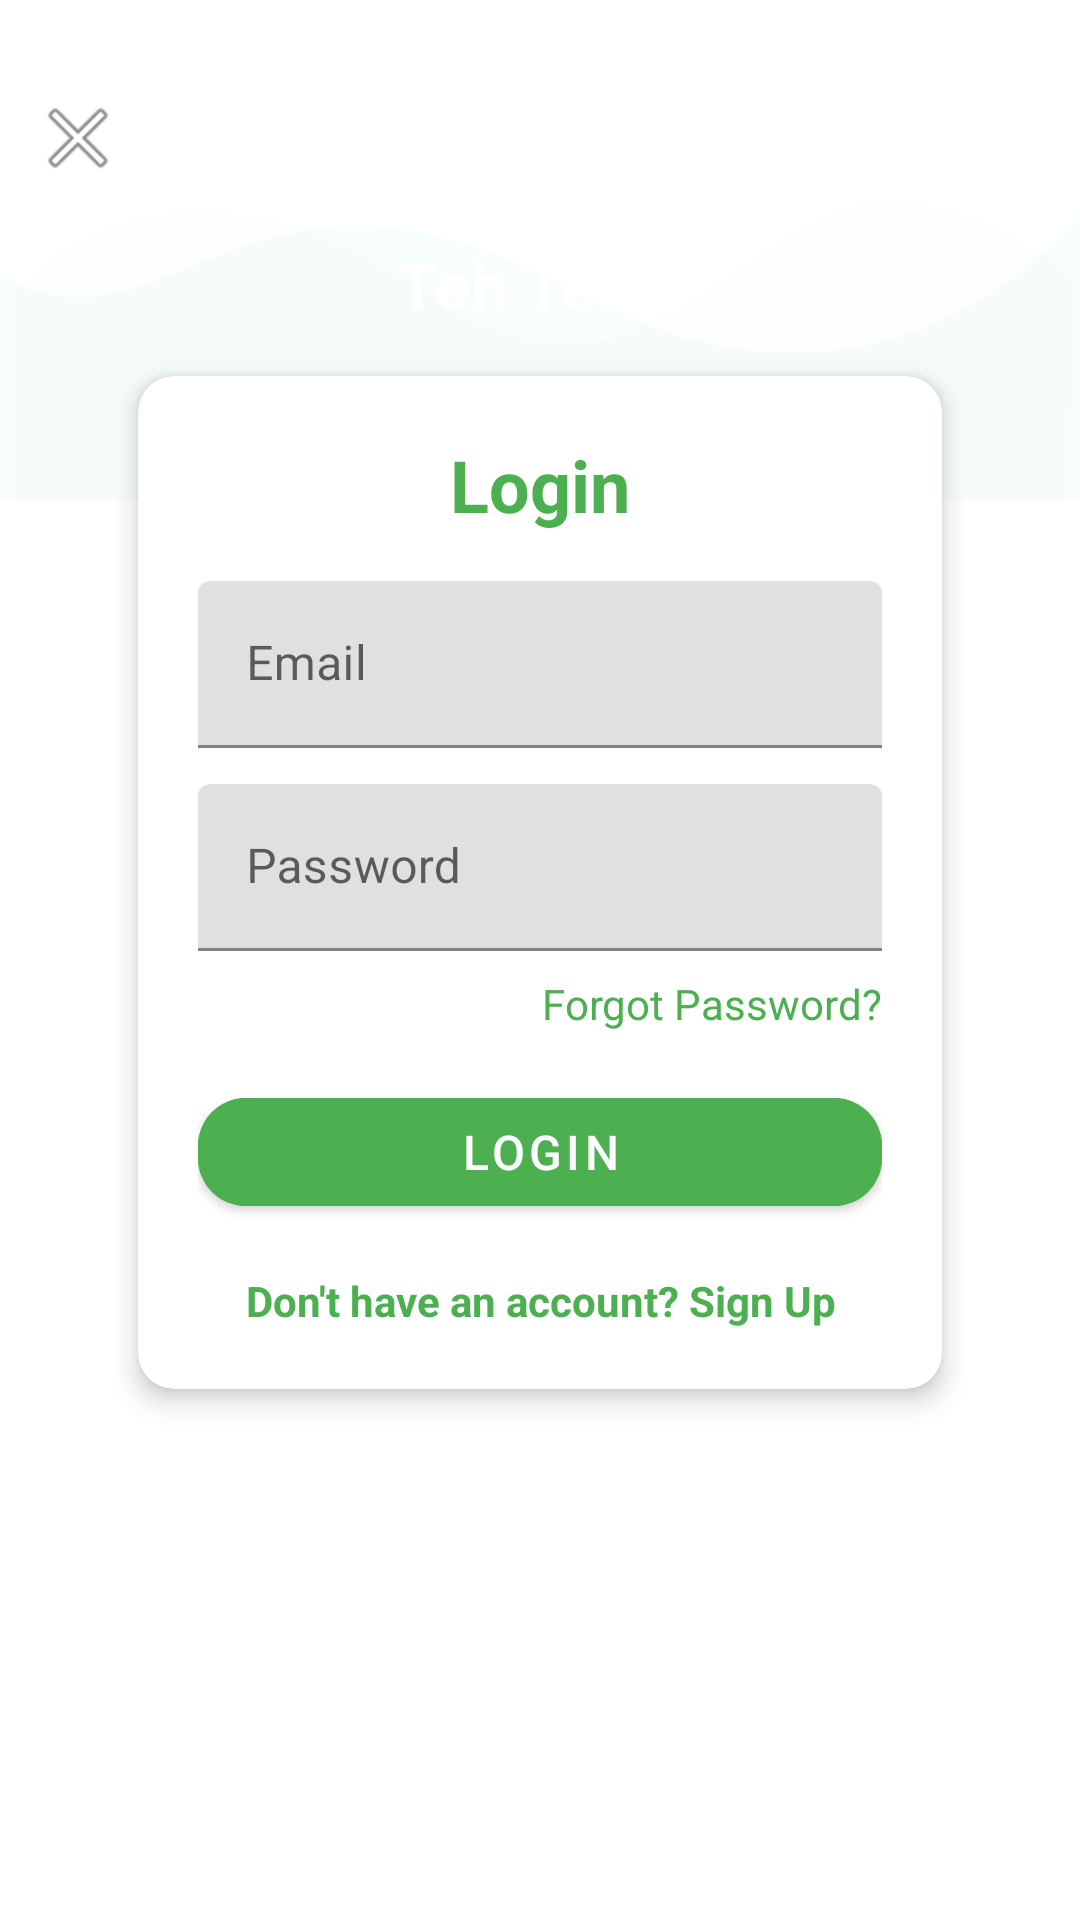

Named icons in this screenshot (1080×1920) and their bounding boxes, [x1, y1, x2, y2]:
close clear cancel: [48, 108, 108, 168]
